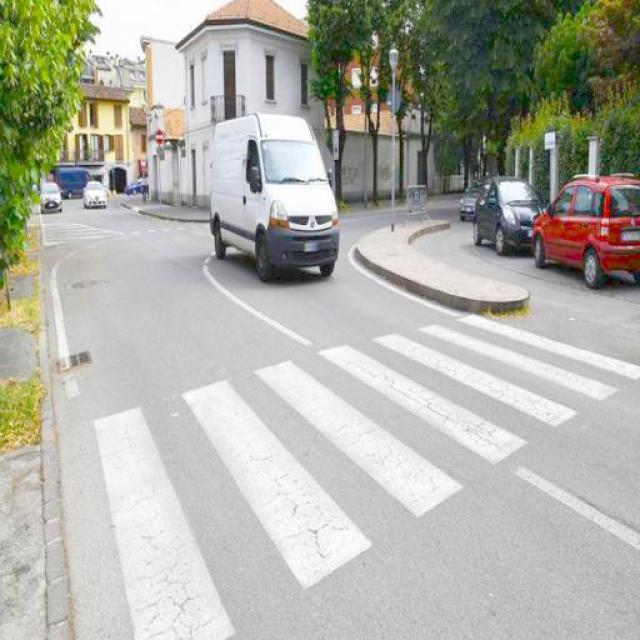crosswalk: (89, 314, 640, 640)
